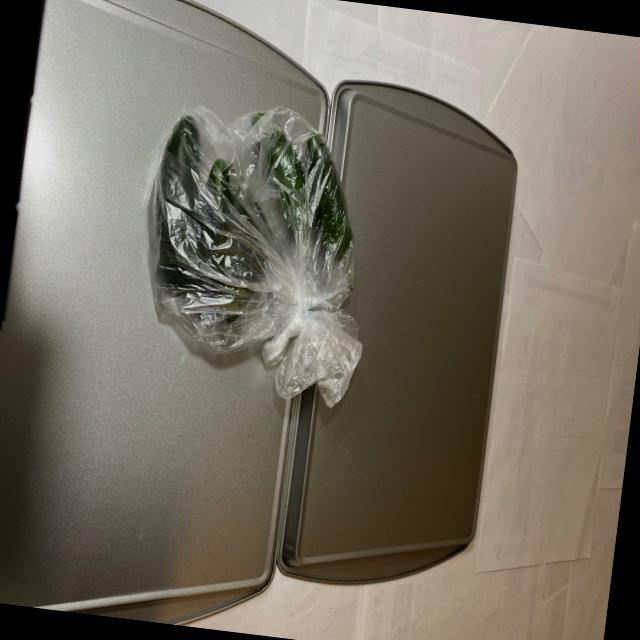chilli: (126, 100, 382, 381)
